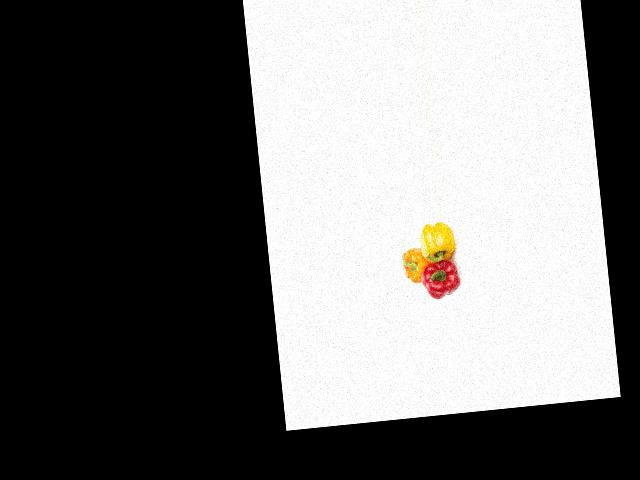bell_pepper: (417, 220, 459, 261)
